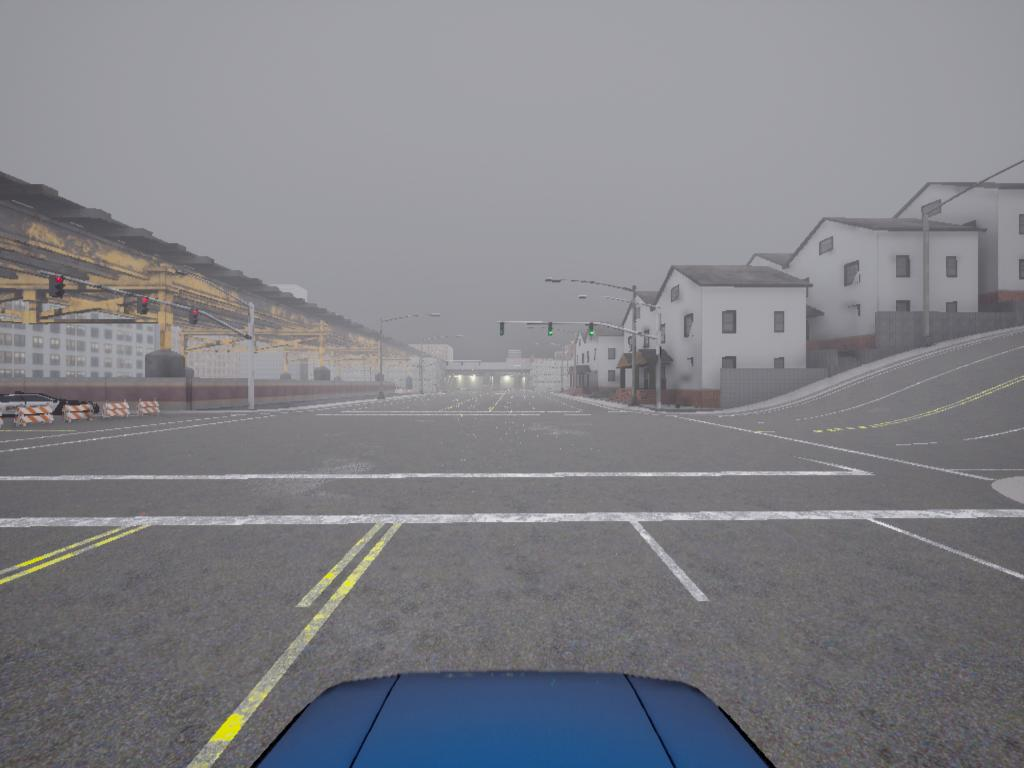traffic_light: (51, 277, 65, 300), (137, 297, 150, 320), (193, 310, 202, 326), (499, 323, 507, 340), (548, 324, 556, 339), (590, 327, 598, 339)
